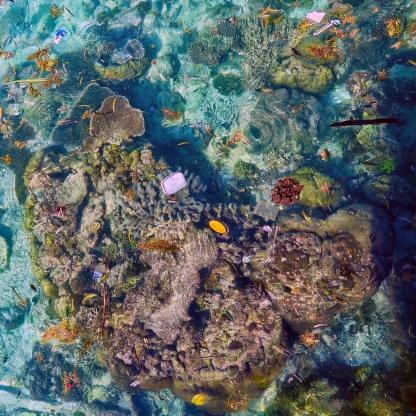pbag: (249, 197, 287, 221)
plastic: (154, 166, 191, 202)
